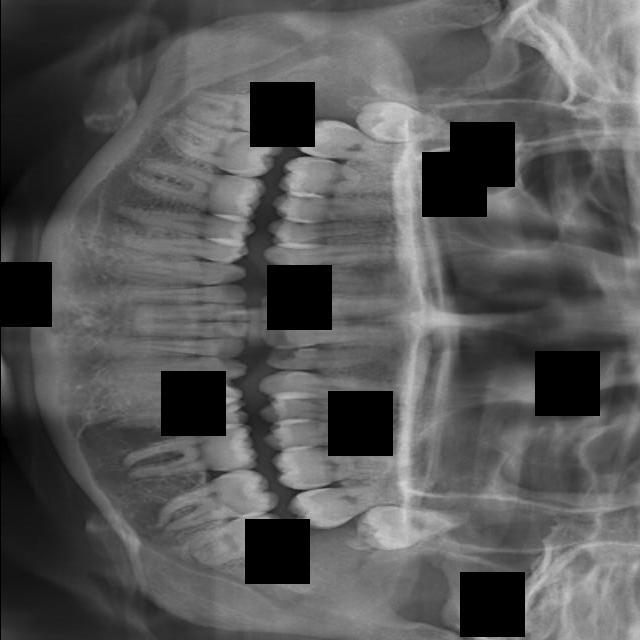3M ESPE Implant: (348, 85, 489, 165)
AGS Medikal Implant: (262, 345, 412, 375)
AMerOss Implant: (248, 362, 433, 400)
Amalgam filling: (254, 388, 437, 422)
Anthogyr Implant: (257, 408, 420, 458)
Bicon Implant: (270, 445, 435, 495)
BioHorizons Implant: (283, 455, 445, 537)
BioLife Implant: (348, 491, 474, 558)
Biomet 3i Implant: (175, 509, 297, 584)
Blue Sky Bio Implant: (133, 461, 280, 545)
Camlog Implant: (114, 421, 260, 489)
Caries: (286, 113, 422, 166)
Composite filling: (100, 393, 252, 444)
Cowellmedi Implant: (99, 376, 245, 411)
Crown: (86, 356, 252, 385)
DENTSPLY Implant: (117, 338, 243, 358)
Dentatus Implant: (130, 318, 246, 342)
Dentis Implant: (131, 303, 252, 322)
Dentium Implant: (125, 283, 253, 302)
Euroteknika Implant: (103, 256, 250, 289)
Filling: (114, 229, 254, 264)
Frontier Implant: (110, 197, 257, 247)
Hiossen Implant: (275, 161, 428, 197)
Implant: (148, 103, 290, 185)
Implant Direct: (227, 173, 228, 173)
Keystone Dental Implant: (172, 75, 302, 137)
MIS Implant: (272, 195, 449, 222)
Mandible: (262, 211, 444, 243)
Maxilla: (257, 236, 475, 272)
Megagen Implant: (262, 271, 445, 293)
Neodent Implant: (254, 291, 444, 320)
Neoss Implant: (253, 321, 430, 346)
